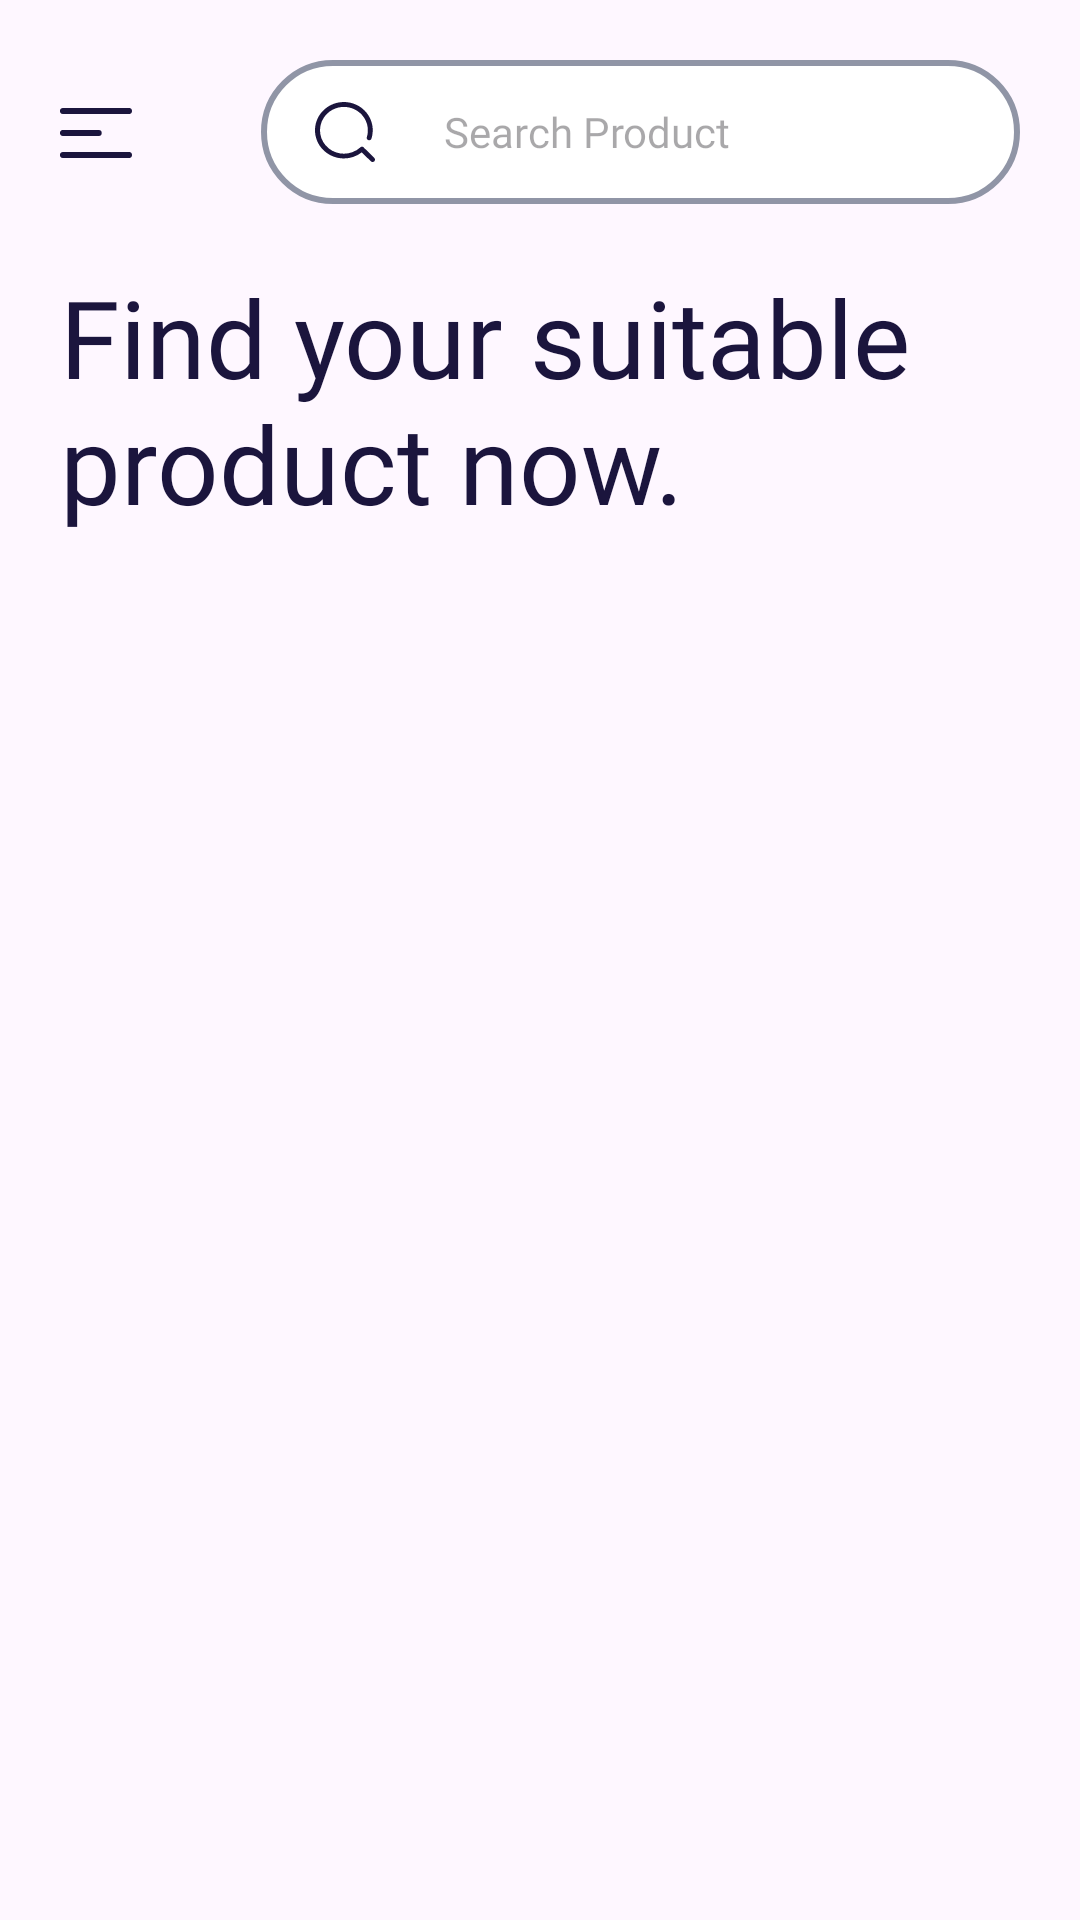

Point at icon controls on the screen. Image size 1080w x 1920h, points as (x,y).
menu: (96,133)
